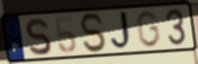3: (164, 7, 187, 47)
5: (53, 15, 77, 54)
G: (135, 9, 162, 49)
J: (109, 10, 135, 52)
S: (78, 12, 109, 55), (24, 17, 53, 58)
